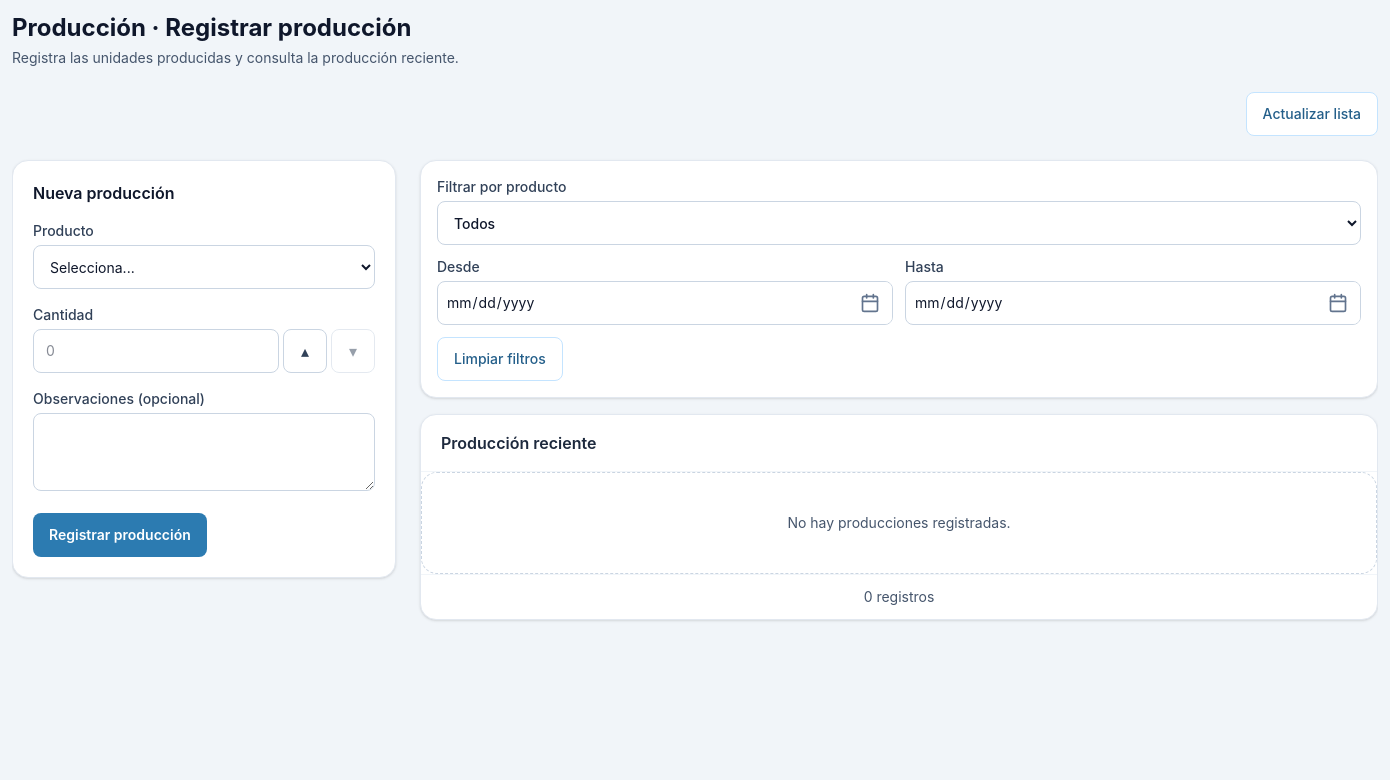
it: UX-12 · éxito de producción utiliza una notificación cerrable
The width and height of the screenshot is (1390, 780).
Select "Agua" in the dropdown labelled "Producto" at (204, 267), box 33,245 -> 375,289
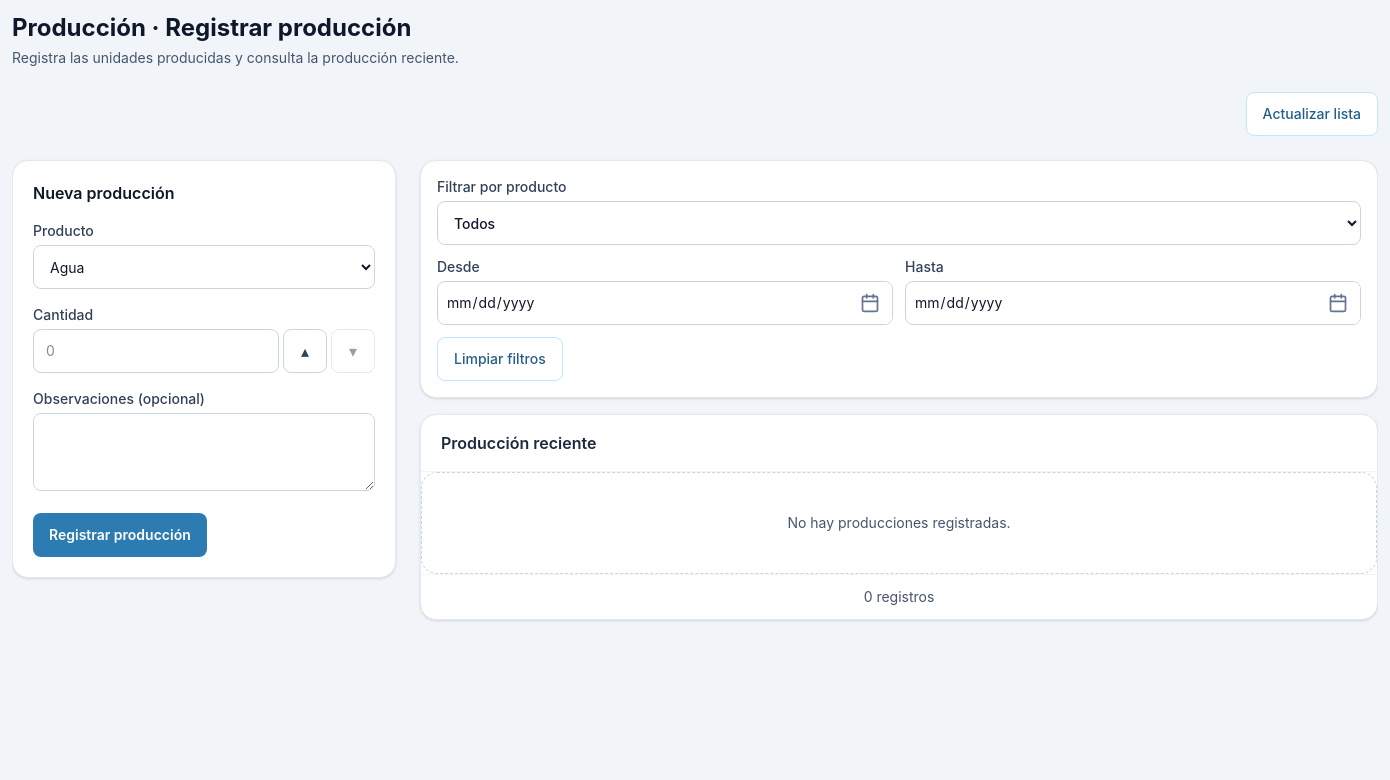
Type "12" into the field labelled "Cantidad" at (156, 351), box 33,329 -> 279,373
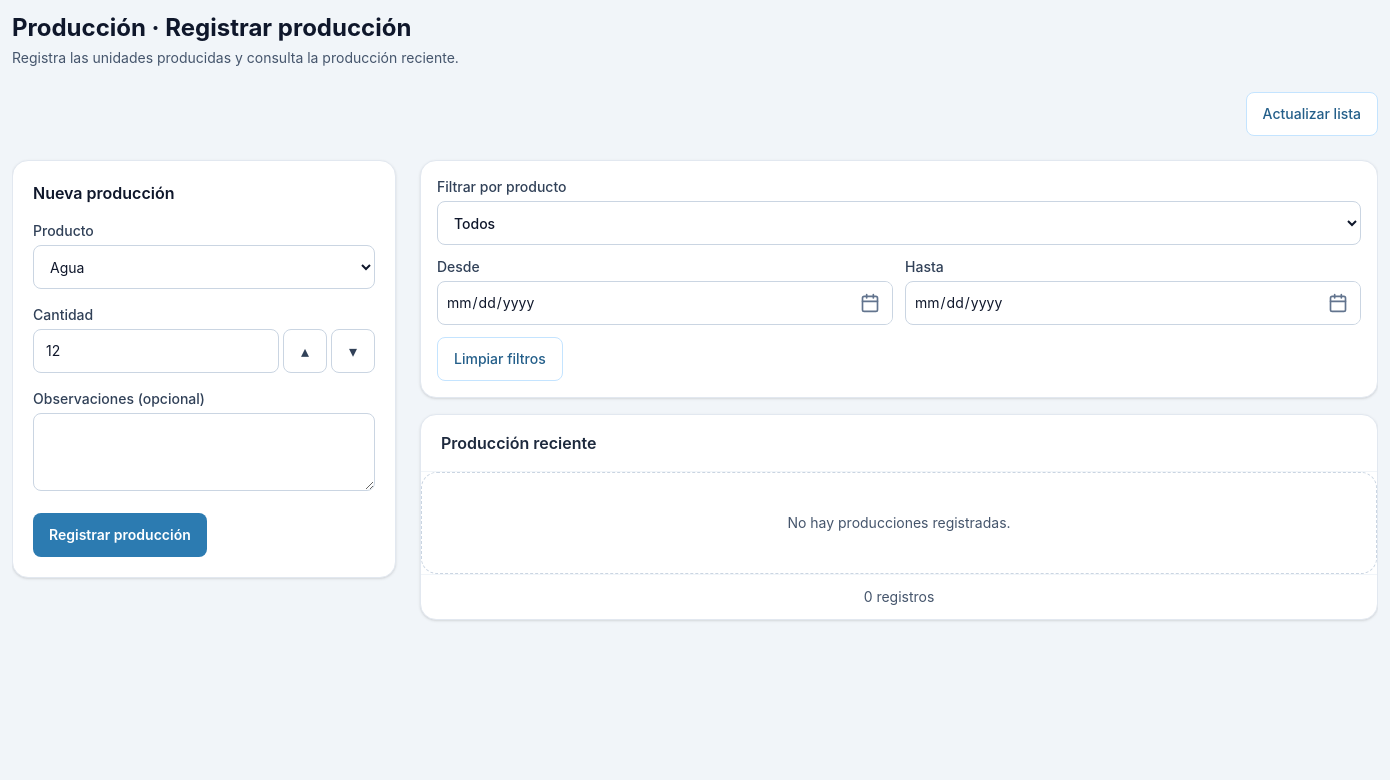
Click the button "Registrar producción" at (120, 535), box 33,513 -> 207,557
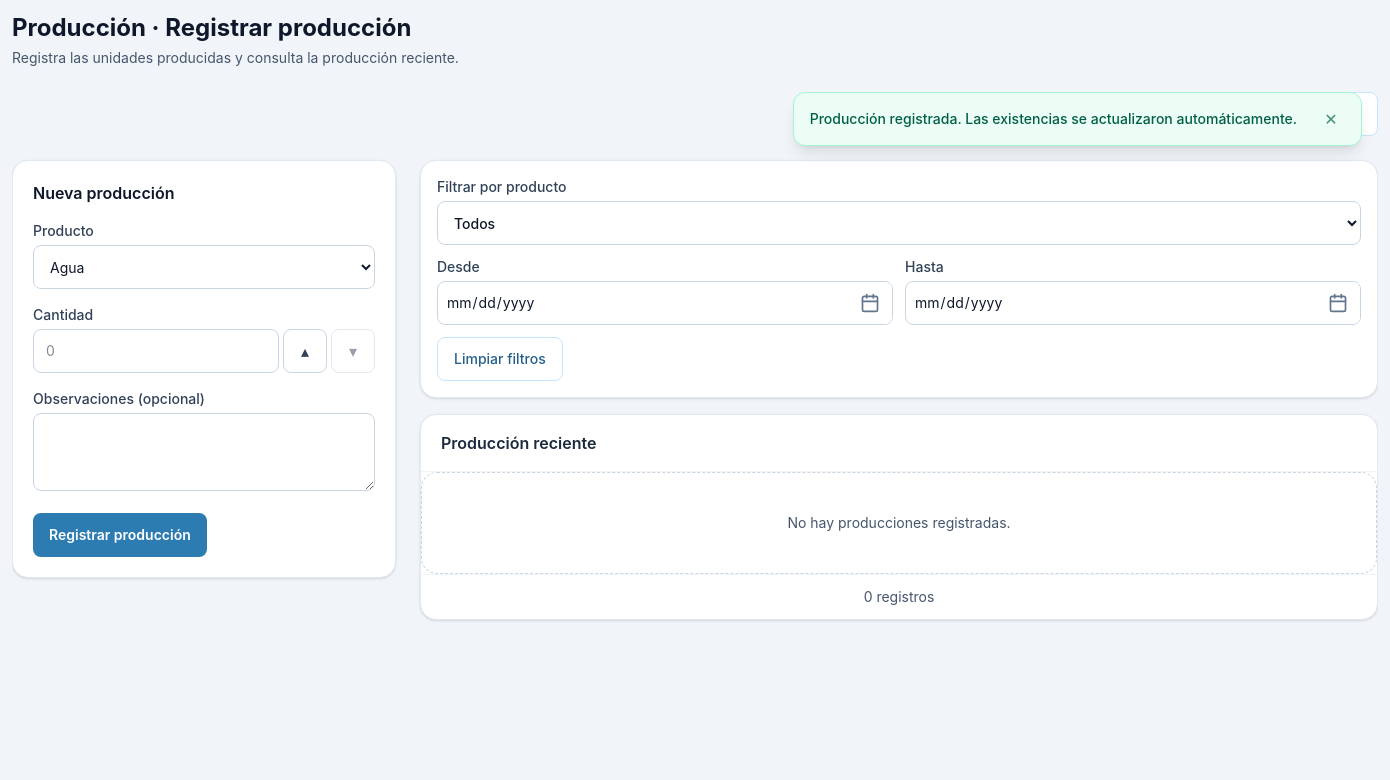
Now the text "Producción registrada" is shown, box 810,110 -> 1297,127
Click the button named "Cerrar notificación" at (1331, 119), box 1309,97 -> 1353,141
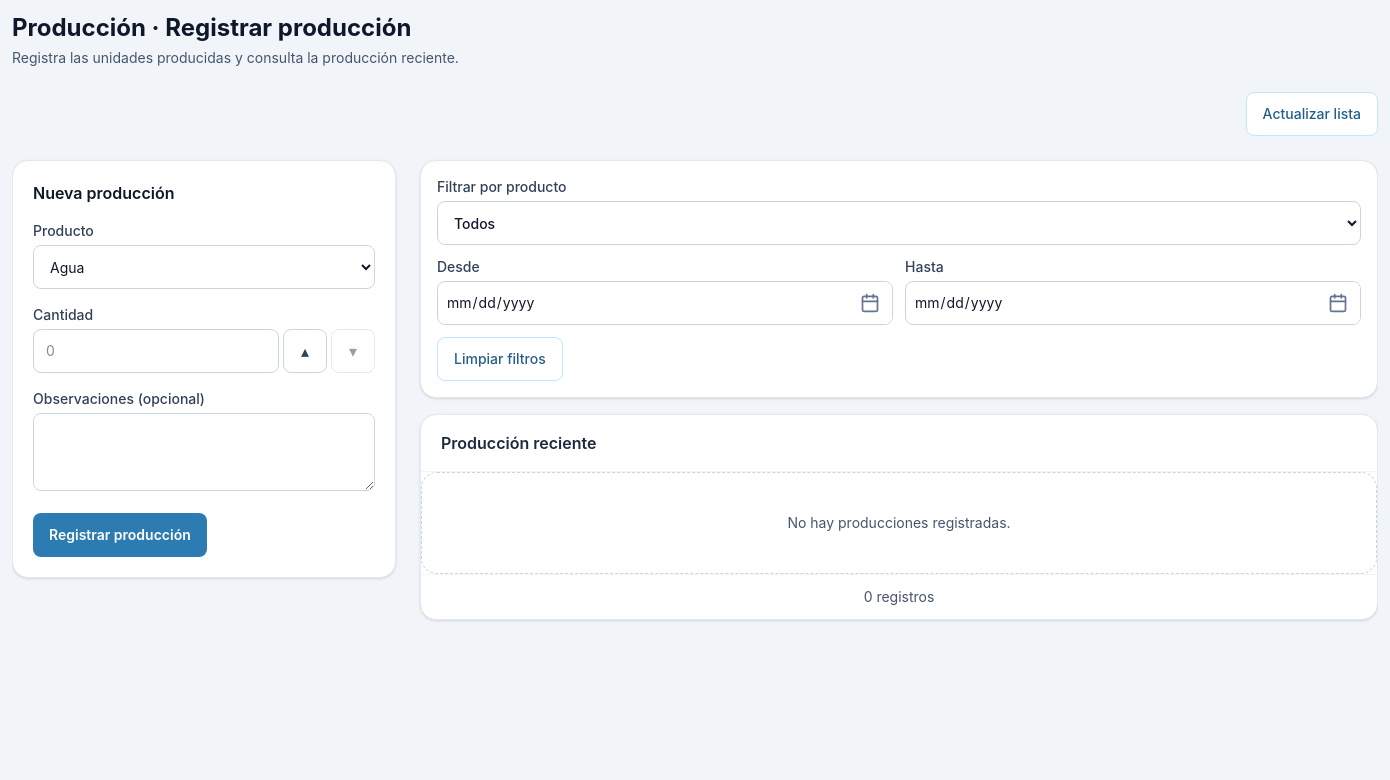
Now the text "Producción registrada" is gone
